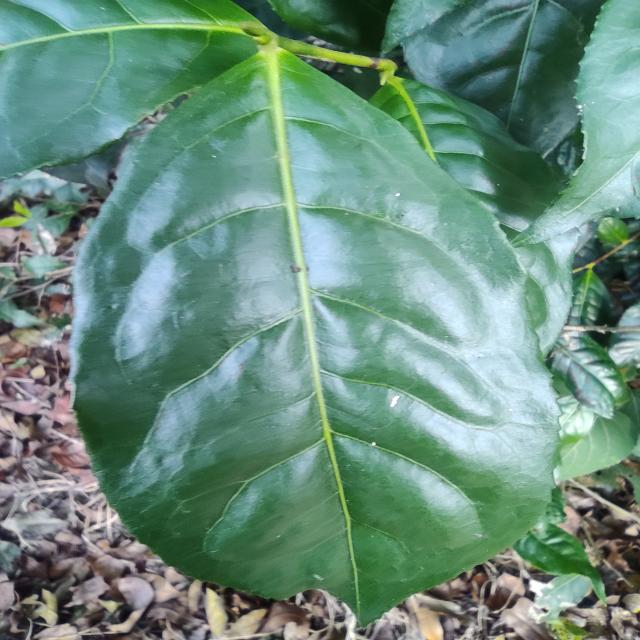Category D(7+ days, Not for Tea): (61, 39, 575, 638)
